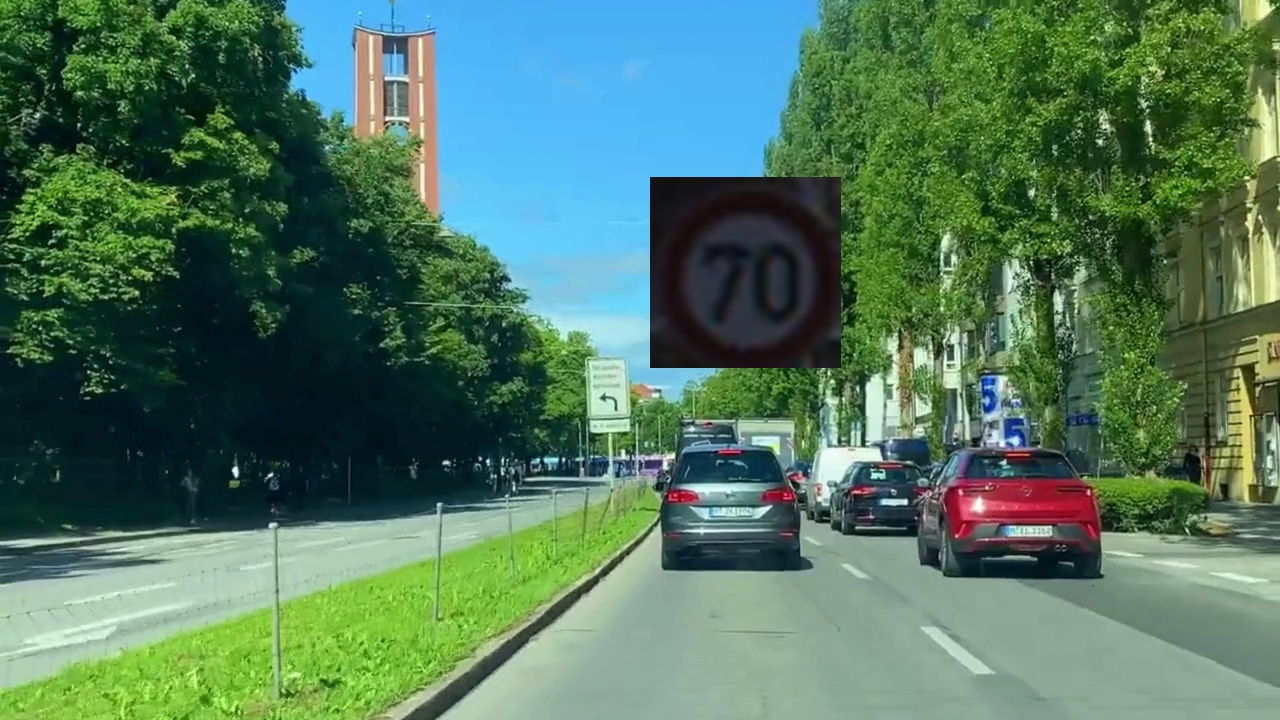Speed 70: (650, 177, 841, 368)
